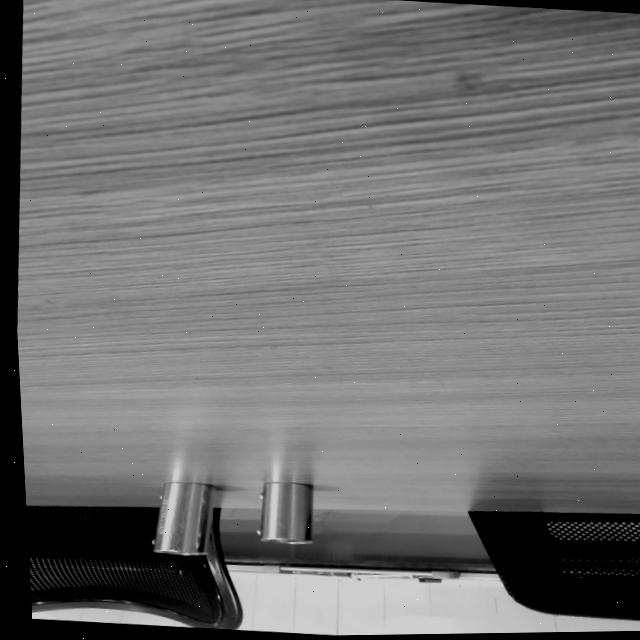Co_Lon: (151, 478, 213, 556)
Co_Nho: (255, 480, 314, 543)
